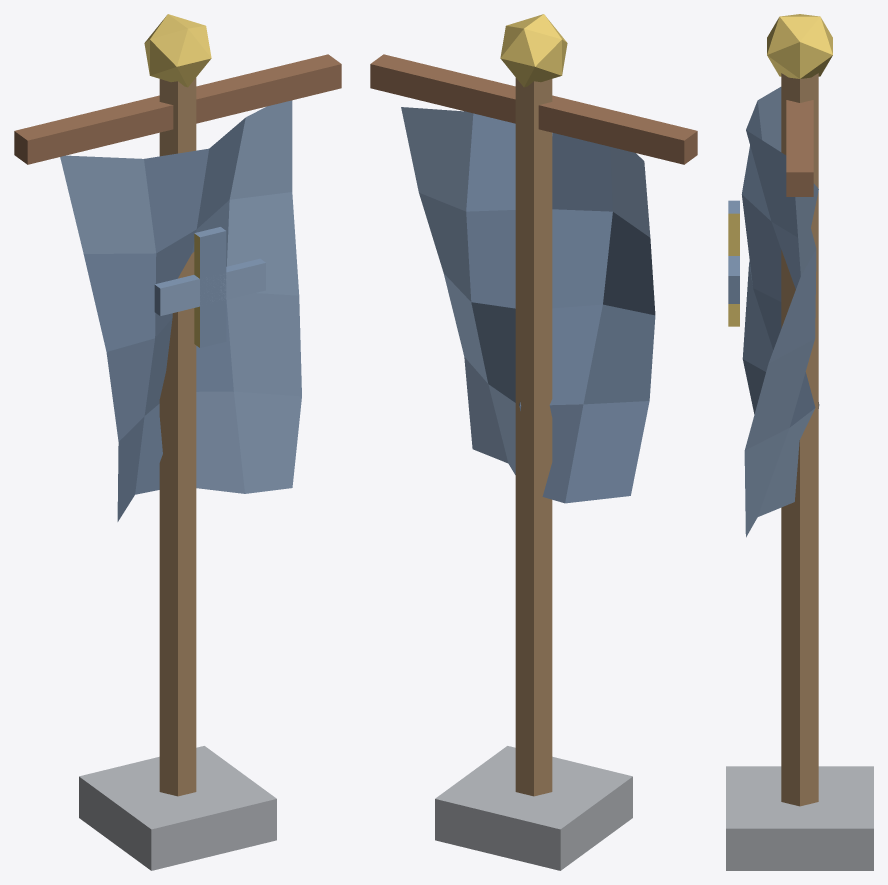
The model's file is animprop_banner_01.glb.
3 renders of one model, left to right at view 1: azimuth 30°, elevation 25°; view 2: azimuth 150°, elevation 25°; view 3: azimuth 270°, elevation 25°, orthographic.
Parts seen in each view (by area): view 1: animprop; view 2: animprop; view 3: animprop.
Part boxes in pixels (<box>): animprop: <box>14,14,341,870</box>; animprop: <box>370,14,697,870</box>; animprop: <box>726,14,873,870</box>.
Size of the model in its own units: 0.95 by 2.34 by 0.38.
